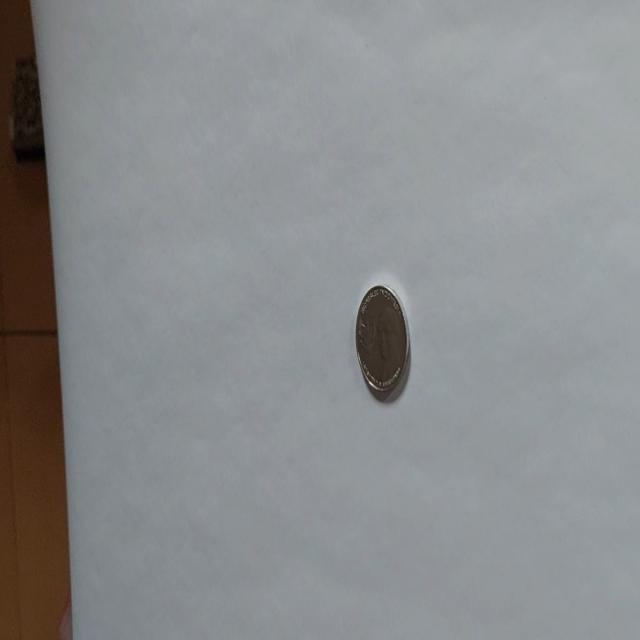lima ratus rupiah: (354, 283, 410, 402)
